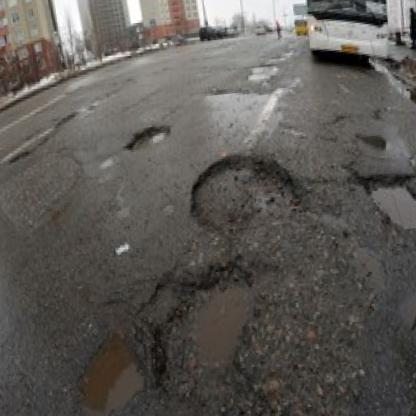pothole: (173, 258, 267, 376), (184, 149, 301, 237), (69, 315, 166, 416), (359, 166, 416, 237), (124, 123, 173, 153), (6, 149, 31, 167)
